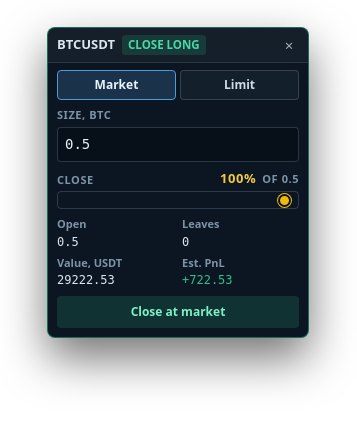
it: FuturesPositionCloser › clears the size when the slider is dragged off the left
Step 1. Set the slider named "Close size, percent of the position" to "0" → (65, 200), box x1=57 y1=191 x2=299 y2=209
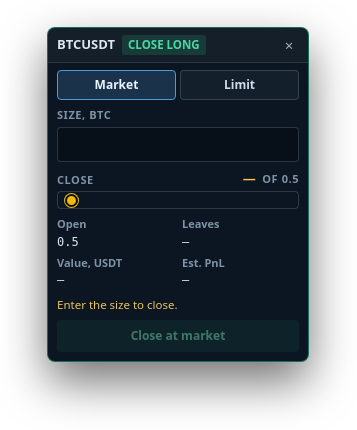
Now the field named "Close size" is empty, box x1=57 y1=126 x2=299 y2=162
Now the message reads "Enter the size to close.", box x1=57 y1=297 x2=178 y2=312
Now the button "Close at market" is disabled, box x1=57 y1=320 x2=299 y2=352
